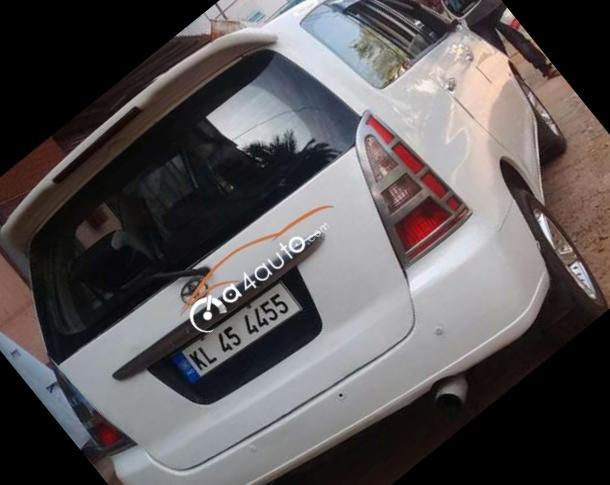plate: (153, 253, 331, 418)
